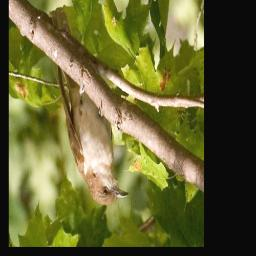Cuckoo: (48, 4, 130, 210)
